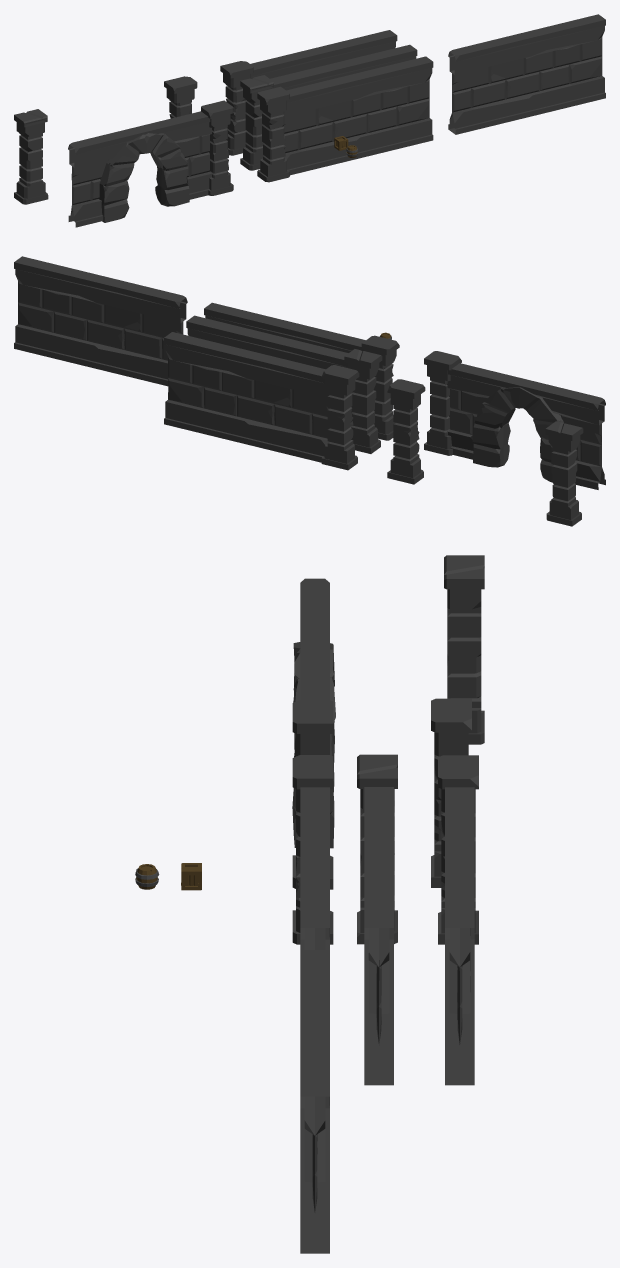
3 renders of one model, top to bottom at view 1: azimuth 30°, elevation 25°; view 2: azimuth 150°, elevation 25°; view 3: azimuth 270°, elevation 25°, orthographic. The views are drawn at different scales.
Parts seen in each view (by area): view 1: Cube.007, wall, wall with arch, Cube.001, Cube.006, spare pillar2, spare pillar1; view 2: Cube.001, wall, wall with arch, Cube.006, Cube.007, spare pillar1, spare pillar2; view 3: Cube.006, Cube.001, wall, wall with arch, Cube.007, spare pillar2, spare pillar1.
Part boxes in pixels (x1,y1,x2,y2): Cube.007: [257, 56, 433, 182]; wall: [448, 14, 605, 134]; wall with arch: [68, 100, 233, 227]; Cube.001: [220, 30, 397, 155]; Cube.006: [240, 44, 417, 170]; spare pillar2: [14, 109, 48, 204]; spare pillar1: [164, 76, 197, 118]; Cube.001: [164, 332, 359, 470]; wall: [14, 256, 187, 386]; wall with arch: [424, 351, 605, 489]; Cube.006: [186, 315, 382, 453]; Cube.007: [204, 302, 399, 440]; spare pillar1: [387, 379, 425, 484]; spare pillar2: [545, 421, 583, 526]; Cube.006: [357, 754, 397, 1085]; Cube.001: [438, 755, 478, 1085]; wall: [300, 950, 329, 1253]; wall with arch: [292, 578, 335, 889]; Cube.007: [292, 755, 333, 953]; spare pillar2: [444, 555, 484, 744]; spare pillar1: [431, 698, 471, 887].
Bounding box in the file's own units: 73.6 × 10.91 × 20.41.
